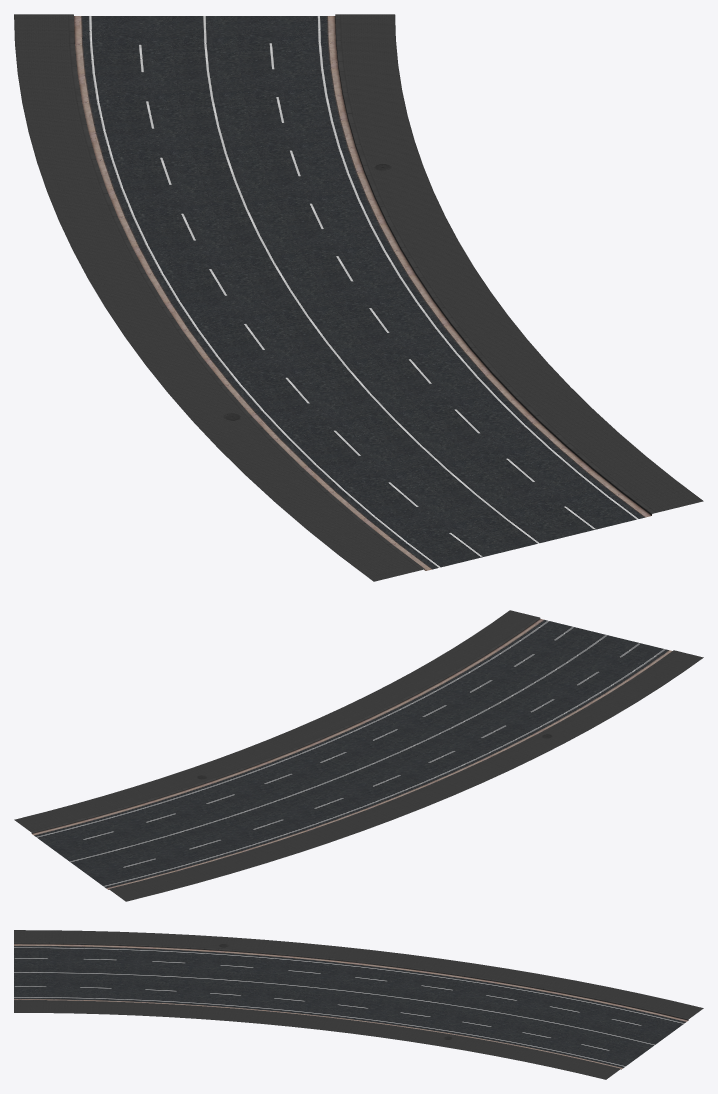
File: or_city_road_4ways_cont_marking_30right.fbx
3 renders of one model, top to bottom at view 1: azimuth 30°, elevation 25°; view 2: azimuth 150°, elevation 25°; view 3: azimuth 270°, elevation 25°, orthographic. The views are drawn at different scales.
Parts seen in each view (by area): view 1: obj0; view 2: obj0; view 3: obj0.
Part boxes in pixels (left/top/right/bottom): obj0: left=14, top=14, right=703, bottom=581; obj0: left=14, top=610, right=703, bottom=901; obj0: left=14, top=930, right=703, bottom=1079.
Bounding box in the file's own units: 80.47 × 0.254 × 157.
